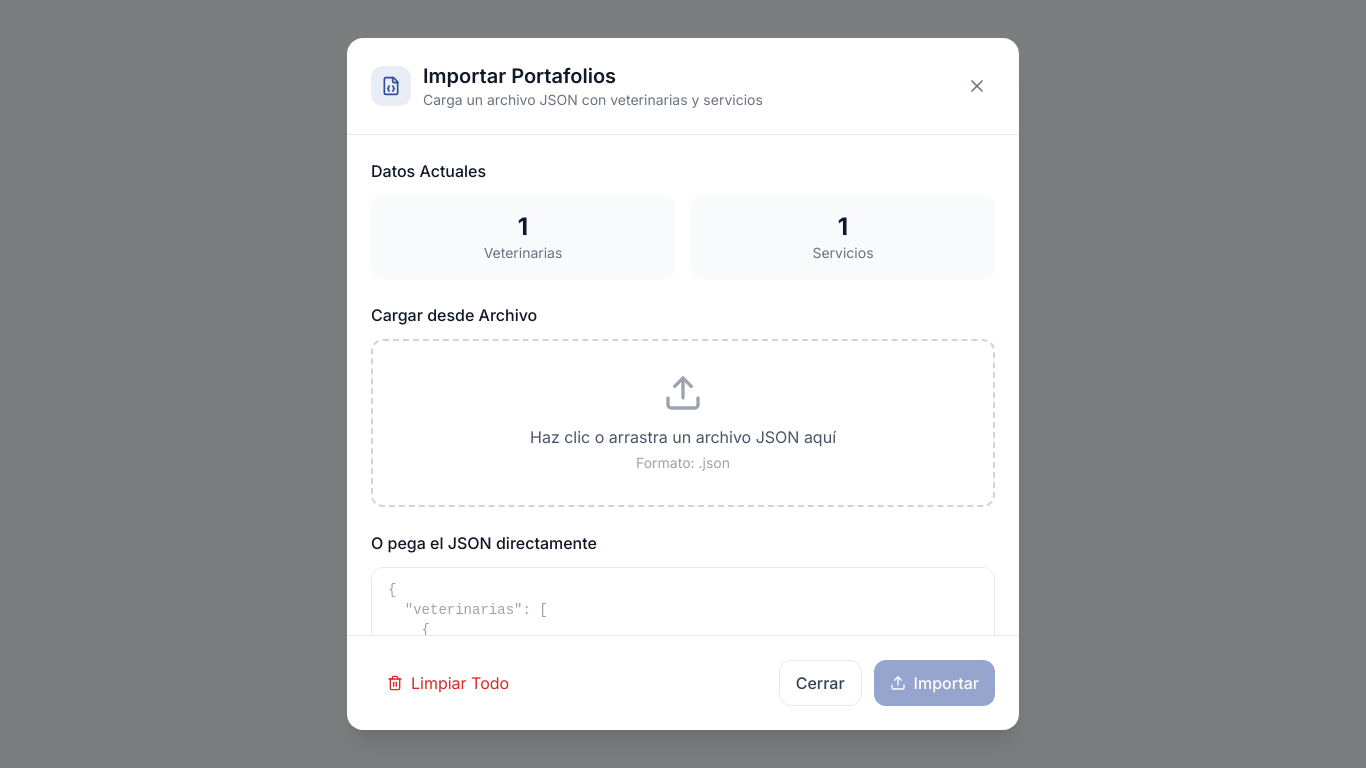
Test: ImportModal › debería mostrar confirmación al hacer clic en Limpiar Todo
Click the button "Limpiar Todo": (448, 683) [371, 663, 525, 703]
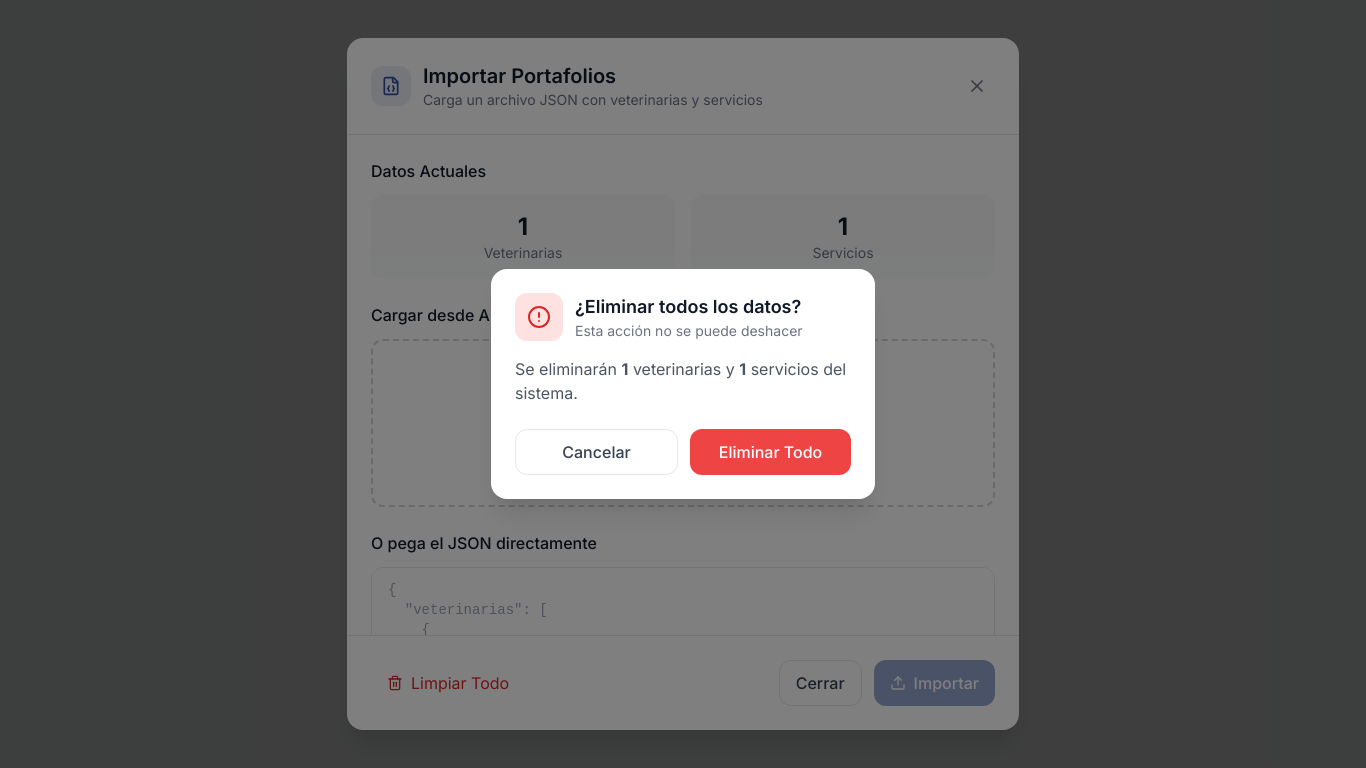
Result: the heading "¿Eliminar todos los datos?" is shown at [575, 293, 803, 321]
Result: the text "Esta acción no se puede deshacer" is shown at [575, 321, 803, 341]
